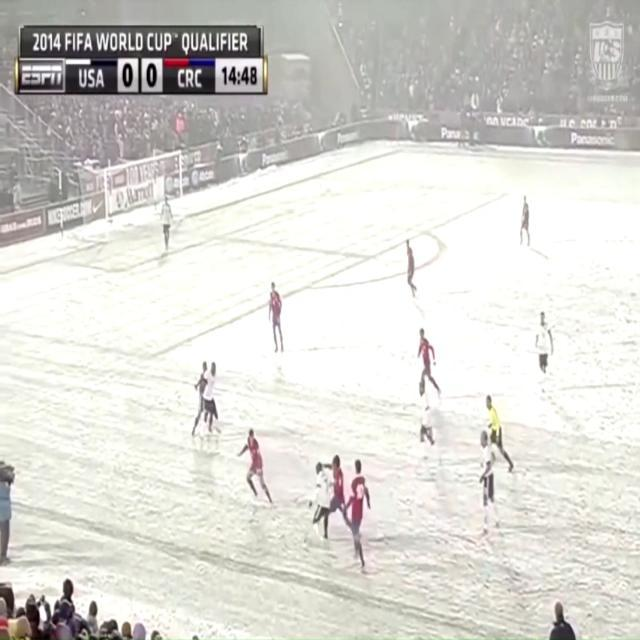goalkeeper: (157, 192, 179, 263)
player: (476, 427, 508, 551), (243, 419, 279, 518), (329, 446, 360, 555), (346, 461, 374, 569), (264, 278, 300, 356), (411, 328, 445, 408), (413, 379, 441, 473), (310, 455, 334, 554), (187, 353, 212, 443), (533, 303, 556, 384), (517, 185, 538, 258), (399, 228, 421, 297), (206, 357, 220, 440)
referee: (480, 392, 519, 481)
